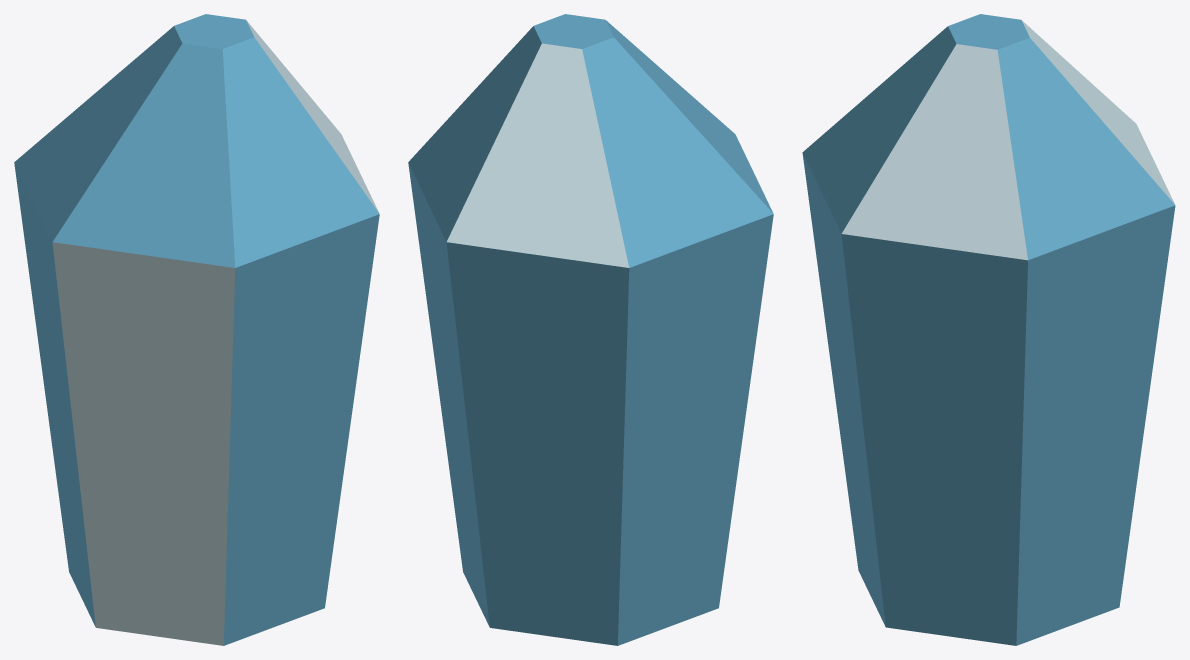
The picture shows the model from 3 angles, left to right: view 1: azimuth 30°, elevation 25°; view 2: azimuth 150°, elevation 25°; view 3: azimuth 270°, elevation 25°; orthographic projection. The views are drawn at different scales.
Parts seen in each view (by area): view 1: Ice_Deposit; view 2: Ice_Deposit; view 3: Ice_Deposit.
Boxes of the visible parts, x1,y1,x2,y2 form: Ice_Deposit: (14,14,379,645); Ice_Deposit: (408,14,773,645); Ice_Deposit: (802,14,1175,645).
Bounding box in the file's own units: 0.5684 × 0.92 × 0.5499.
